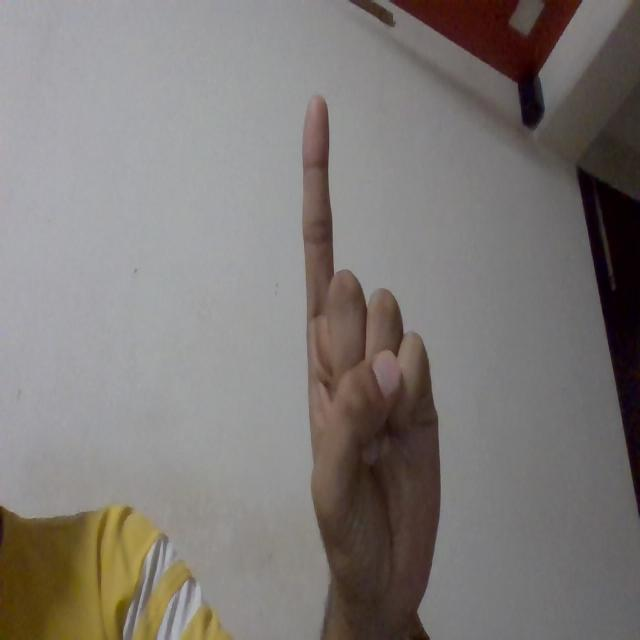Z: (258, 33, 502, 640)
